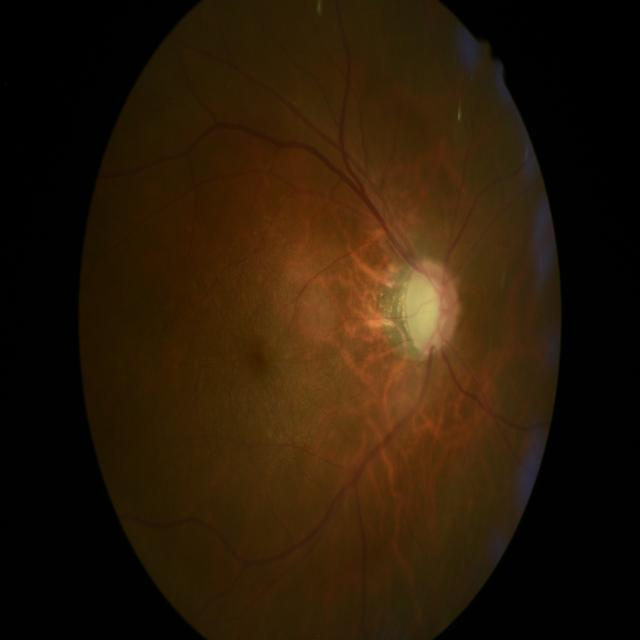cup: (412, 273, 450, 347)
disk: (400, 256, 462, 355)
